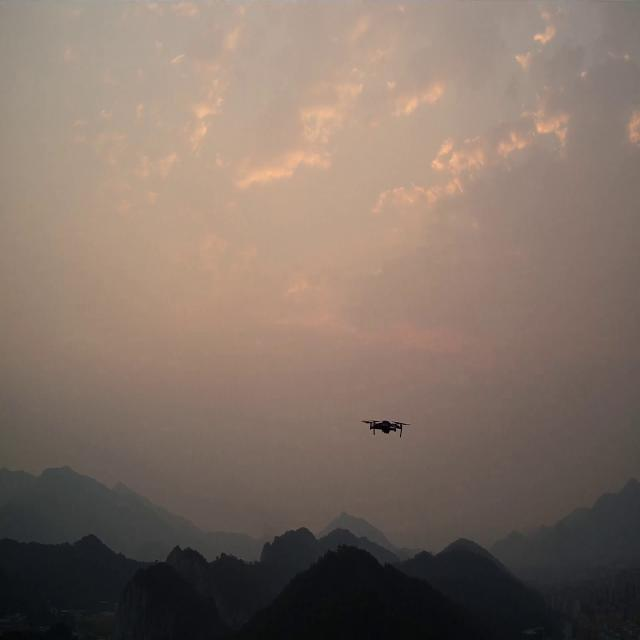UAV: (363, 419, 405, 438)
